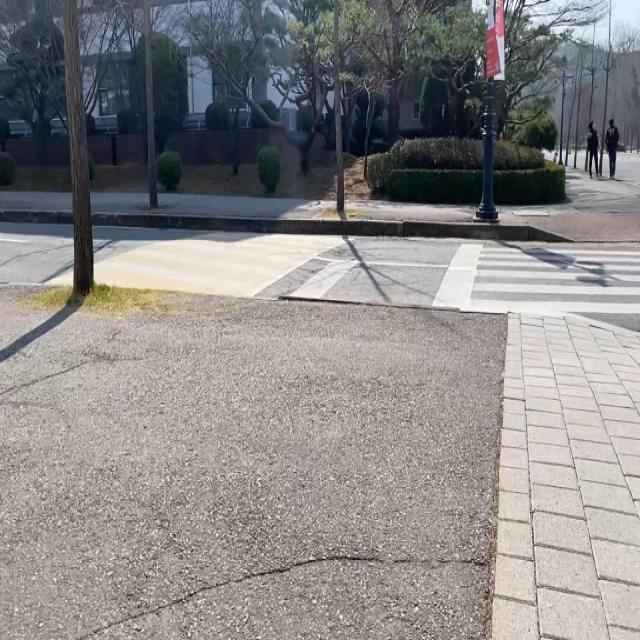sidewalk: (0, 286, 507, 639), (493, 313, 640, 639), (528, 165, 640, 239), (158, 191, 341, 219), (343, 199, 475, 223), (0, 189, 70, 209), (90, 191, 148, 211)
